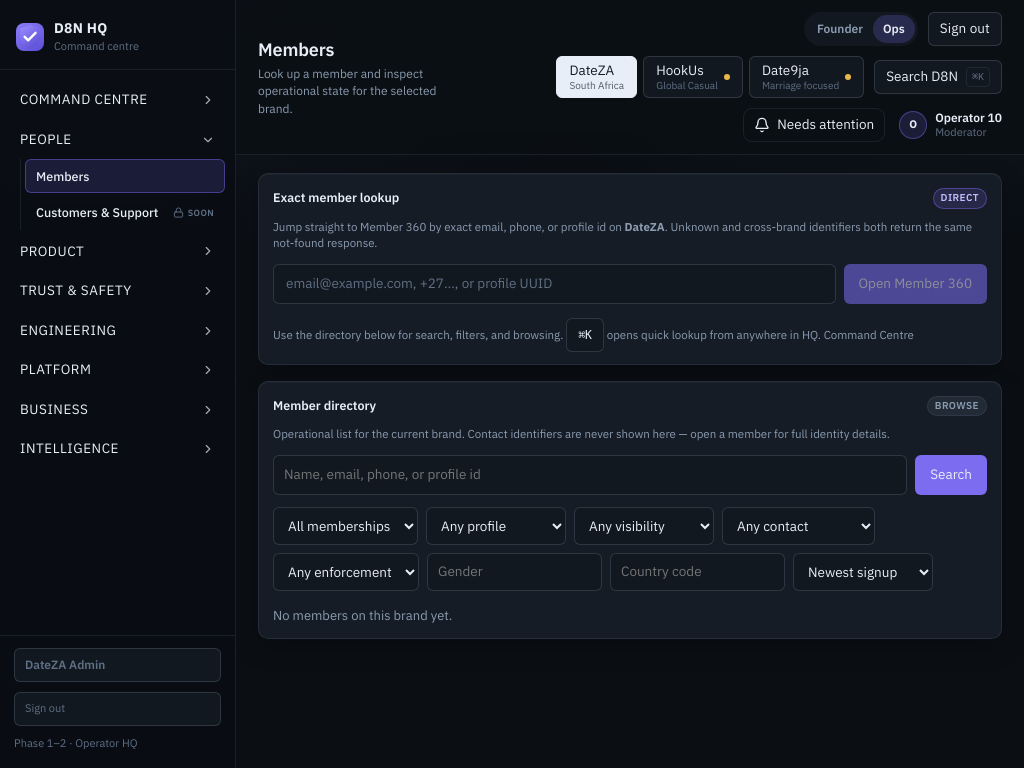
Test: D8N HQ Phase 1 integration › surfaces forbidden on lookup
Type "x@example.com" into the field named "exact member lookup" at (554, 284), box top-left (273, 264), bottom-right (836, 304)
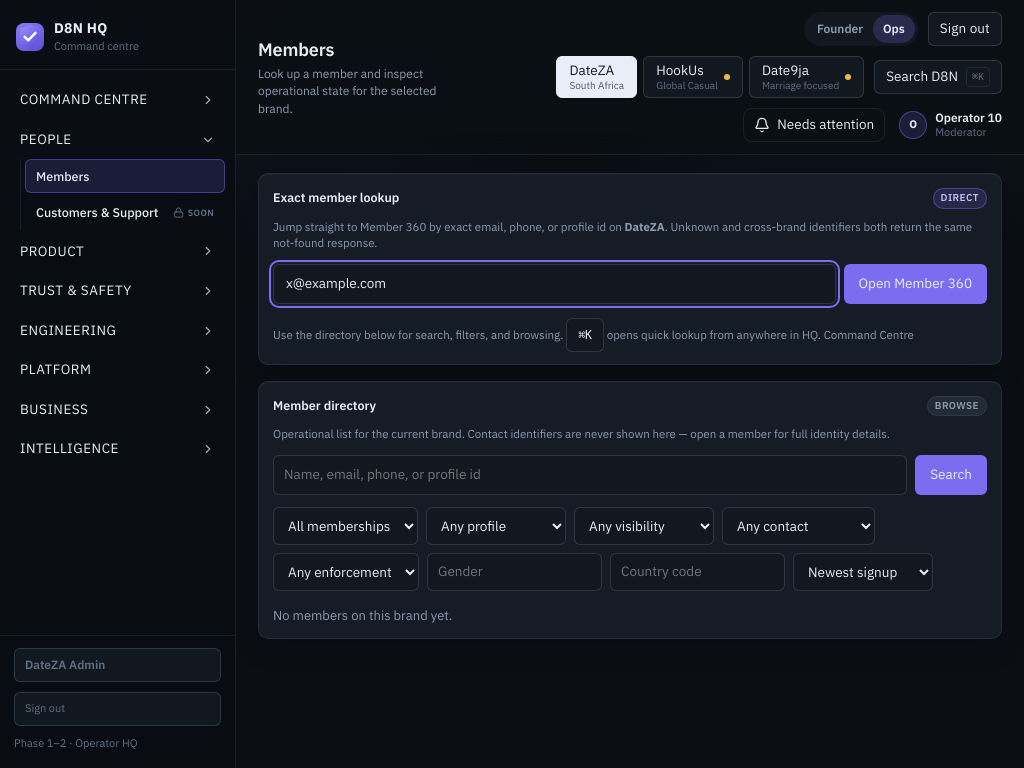
Click the button "Open Member 360" at (915, 284), box top-left (844, 264), bottom-right (987, 304)
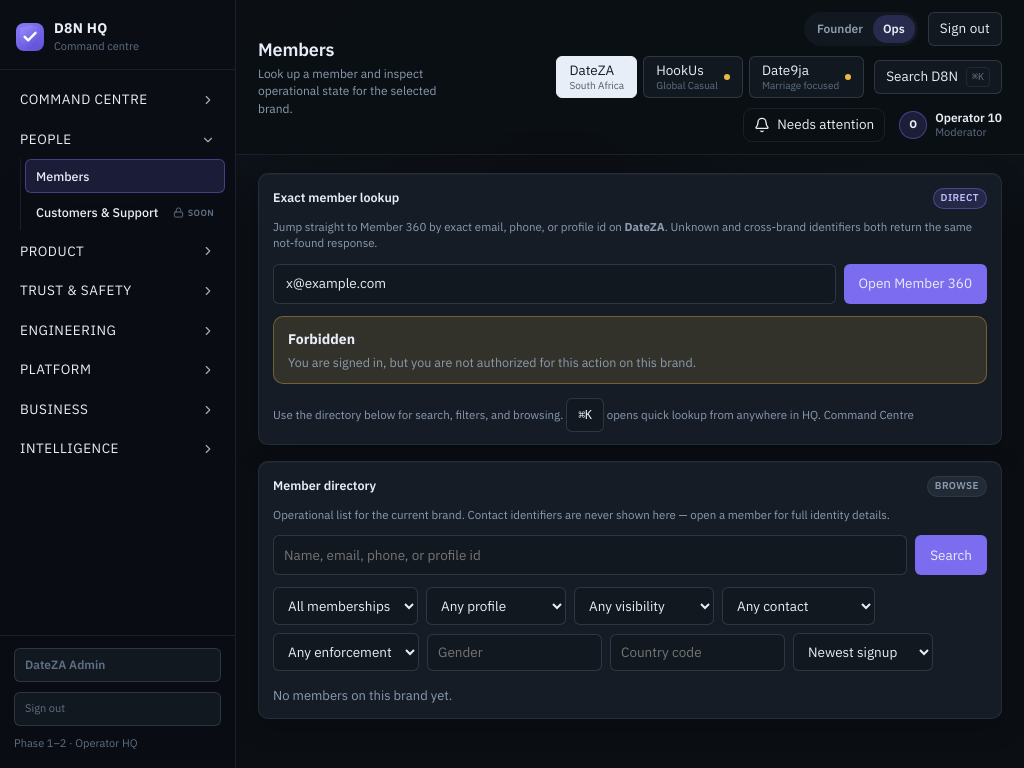
Expected: the text "not authorized for this action" is shown, top-left (288, 354), bottom-right (696, 370)
